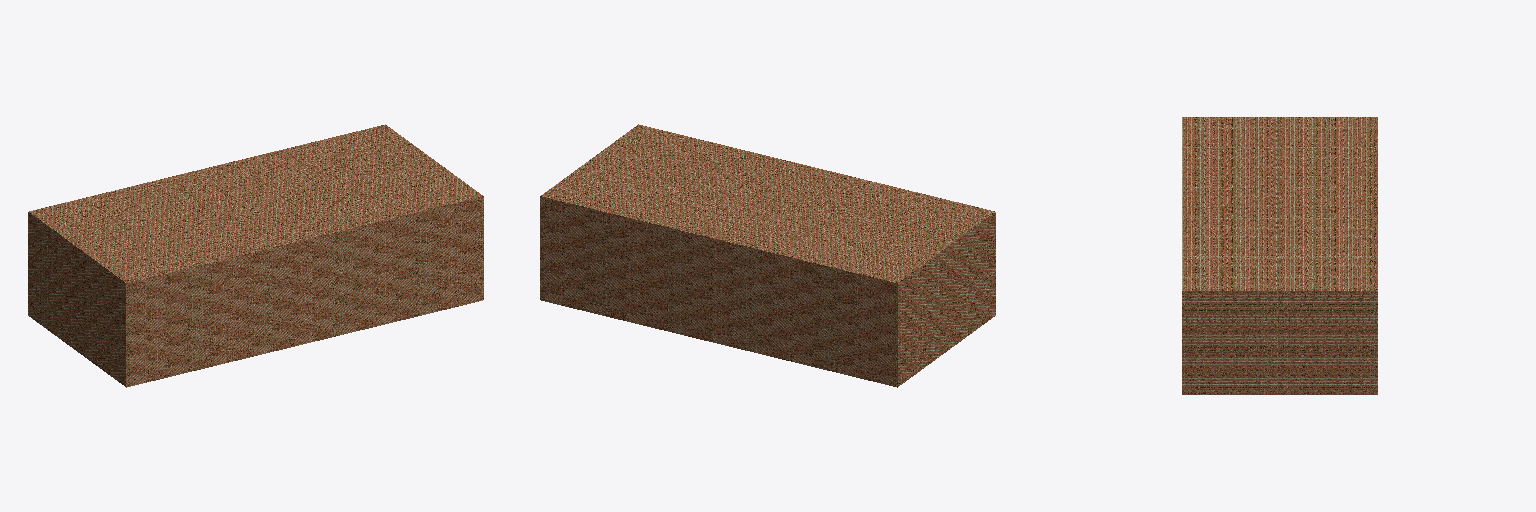
3 views of the same model, side by side, from view 1: azimuth 30°, elevation 25°; view 2: azimuth 150°, elevation 25°; view 3: azimuth 270°, elevation 25° (orthographic).
Visible parts, largest first — view 1: Building 1; view 2: Building 1; view 3: Building 1.
Boxes of the visible parts, x1=… form: Building 1: x1=28, y1=124, x2=483, y2=387; Building 1: x1=540, y1=124, x2=995, y2=387; Building 1: x1=1182, y1=117, x2=1377, y2=394.
Bounding box in the file's own units: 36.04 × 10.05 × 17.13.
Materials: 1 (1 with a texture image).